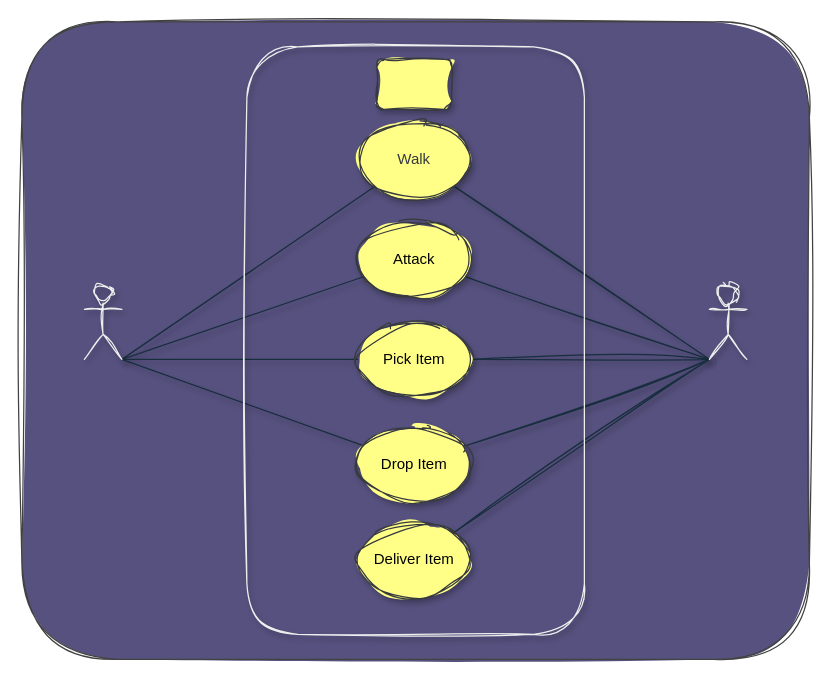
The diagram is 831 pixels wide and 681 high, and some of its shapes have lost their labels. The shapes that lost their labels are listed below. From the top down, each one's centre as x and y in pixels, then its label:
At (x=415, y=85): "Game World".
At (x=103, y=323): "Player".
At (x=728, y=323): "AI Actor".
